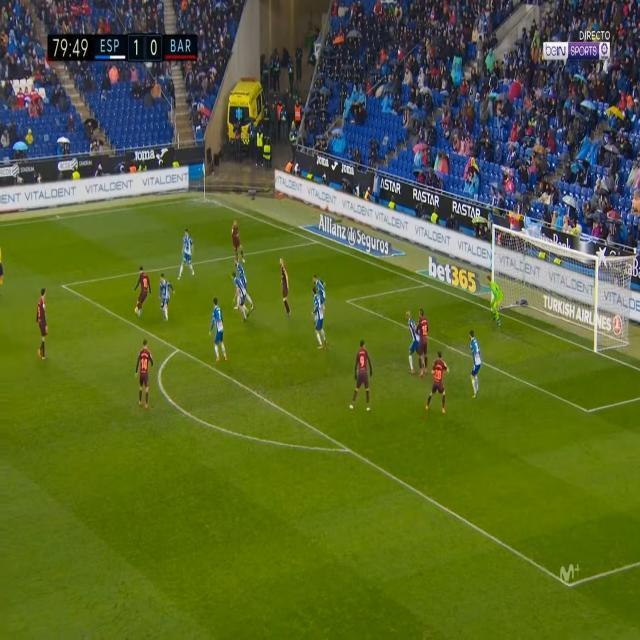ball: (134, 306, 139, 317)
goalkeeper: (485, 275, 506, 333)
player: (349, 334, 376, 421), (423, 345, 453, 418), (132, 335, 157, 416), (204, 295, 231, 370), (29, 286, 53, 367), (465, 320, 485, 403), (131, 262, 154, 328), (273, 253, 296, 318), (228, 268, 252, 326), (176, 229, 200, 286), (154, 269, 177, 326), (308, 286, 329, 348), (228, 211, 249, 267), (402, 310, 418, 372)
